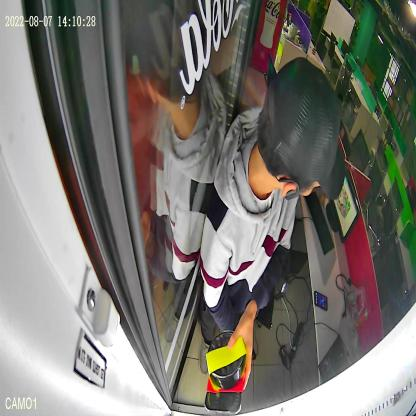red: (205, 367, 248, 416)
yellow: (206, 330, 247, 393)
